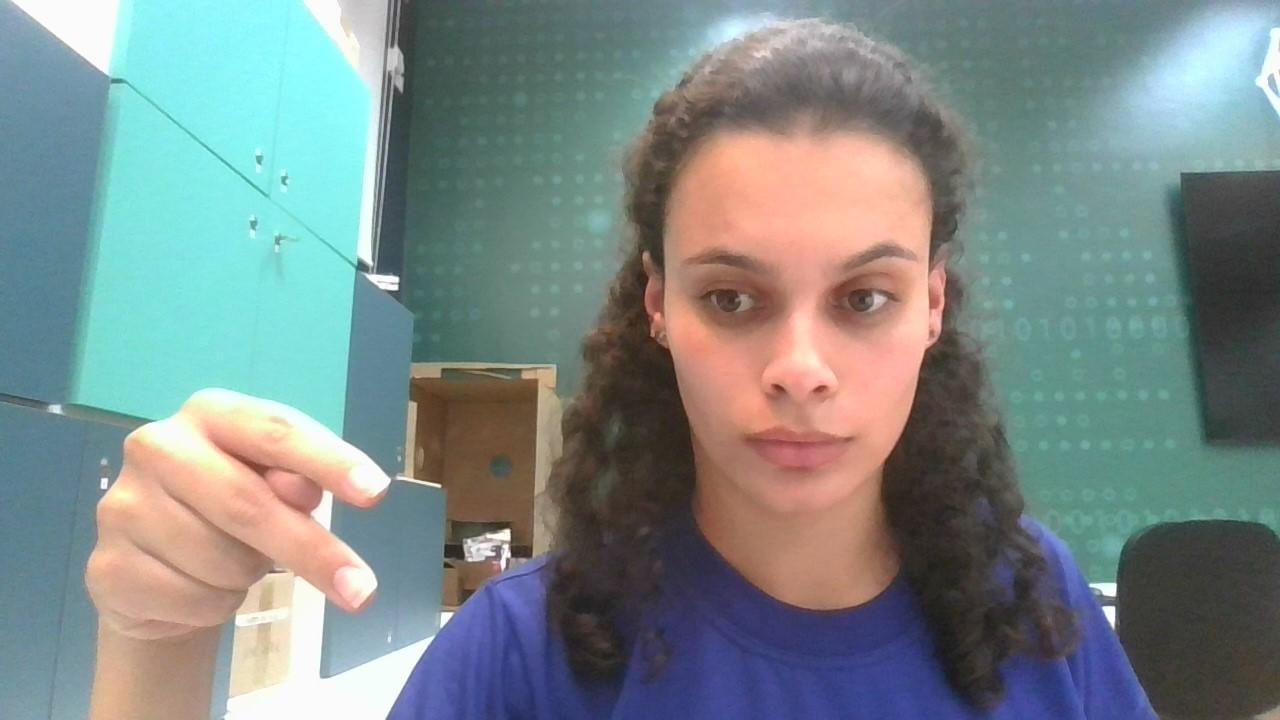P: (50, 368, 392, 650)
